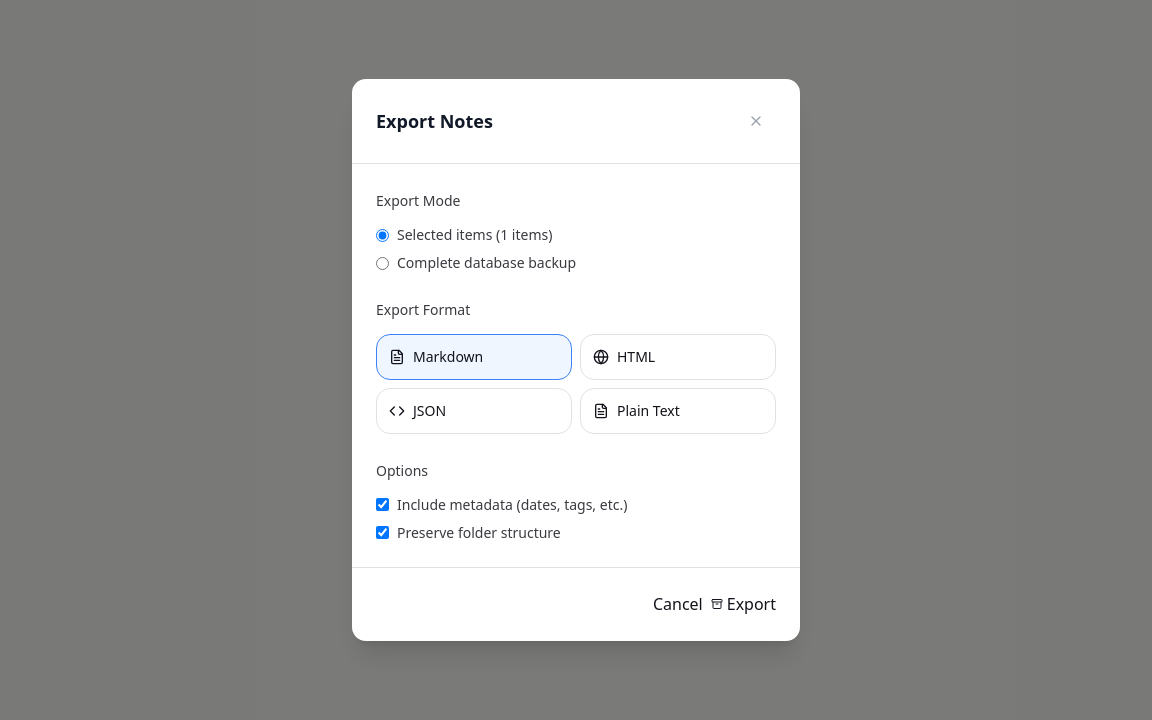
Test: ExportModal › Mode Selection › should switch between export modes
Expected: the radio button showing "bulk" is checked, x1=376 y1=229 x2=389 y2=242
// Switch to database mode
Click the radio button showing "database" at (382, 263), box x1=376 y1=257 x2=389 y2=270
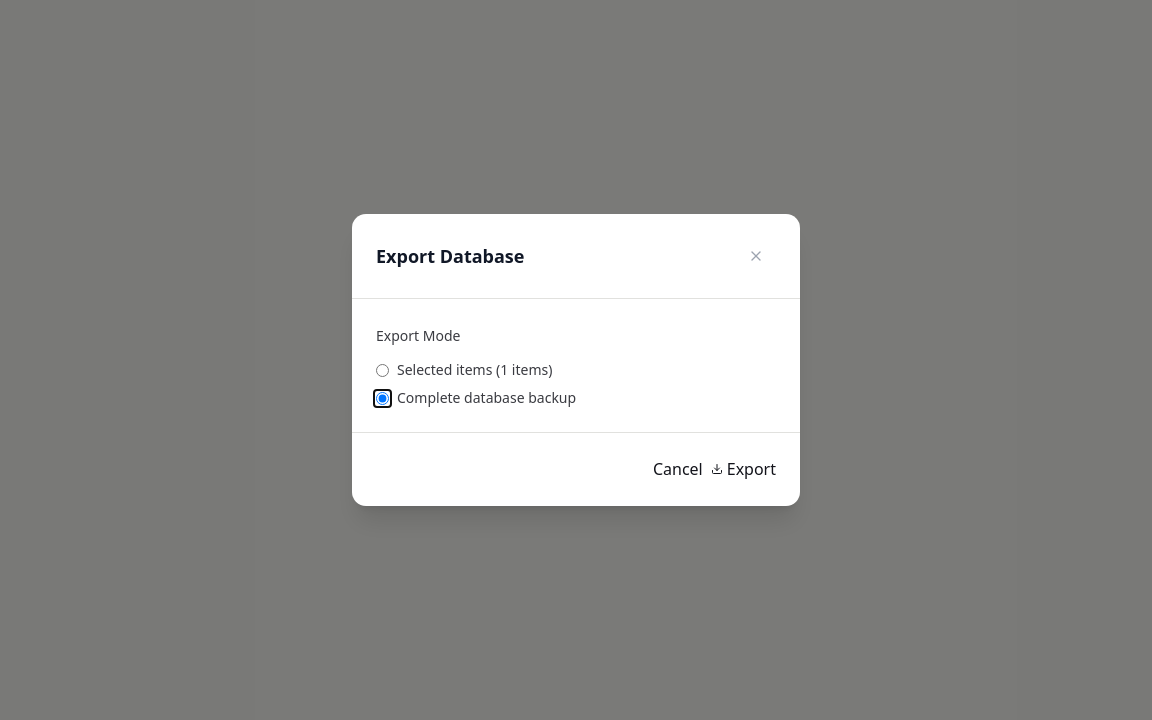
Now the radio button showing "database" is checked, box x1=376 y1=392 x2=389 y2=404
Now the text "Export Format" is gone
